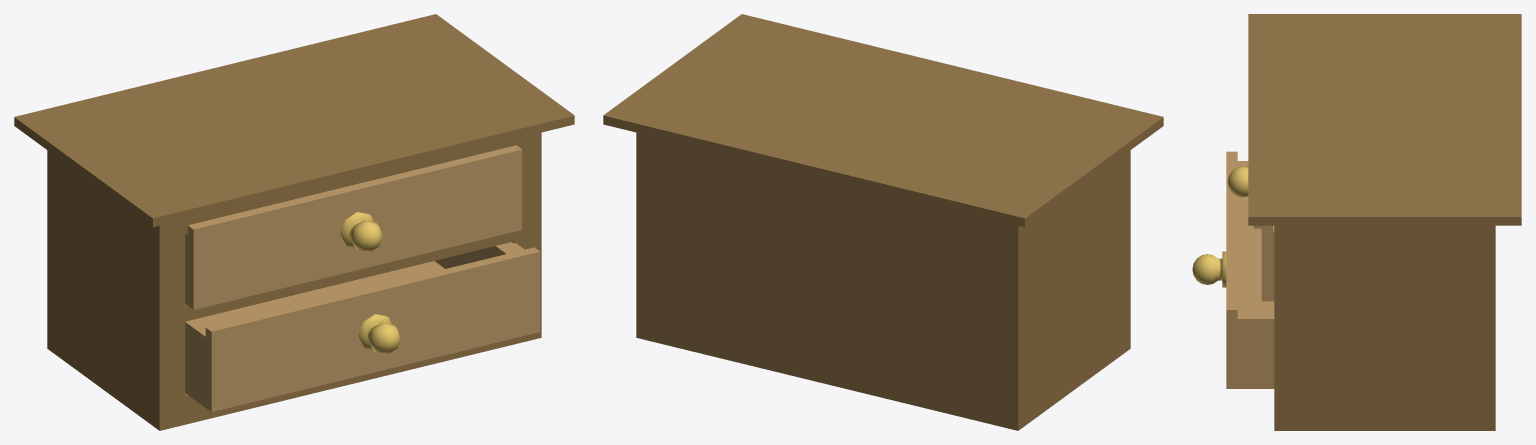
The model's file is Draw.fbx.
3 renders of one model, left to right at view 1: azimuth 30°, elevation 25°; view 2: azimuth 150°, elevation 25°; view 3: azimuth 270°, elevation 25°, orthographic.
Parts seen in each view (by area): view 1: pCube3; view 2: pCube3; view 3: pCube3.
Boxes of the visible parts, x1,y1,x2,y2 form: pCube3: [14, 14, 574, 430]; pCube3: [603, 14, 1163, 430]; pCube3: [1192, 14, 1521, 430].
Size of the model in its own units: 5.69 by 2.93 by 3.9.
